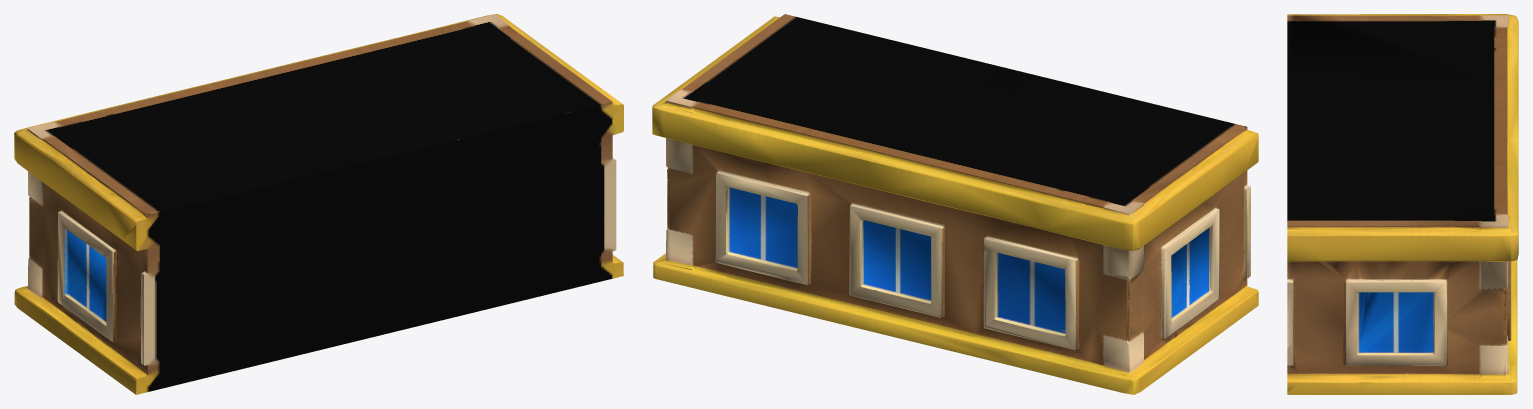
File: 6-upper-walls-back.fbx
3 renders of one model, left to right at view 1: azimuth 30°, elevation 25°; view 2: azimuth 150°, elevation 25°; view 3: azimuth 270°, elevation 25°, orthographic. The views are drawn at different scales.
Parts seen in each view (by area): view 1: upper-walls-back; view 2: upper-walls-back; view 3: upper-walls-back.
Boxes of the visible parts, x1,y1,x2,y2 form: upper-walls-back: (14, 14, 623, 394); upper-walls-back: (652, 14, 1258, 394); upper-walls-back: (1287, 14, 1518, 394).
Size of the model in its own units: 8904 by 3085 by 3948.
Materials: 1 (1 with a texture image).
